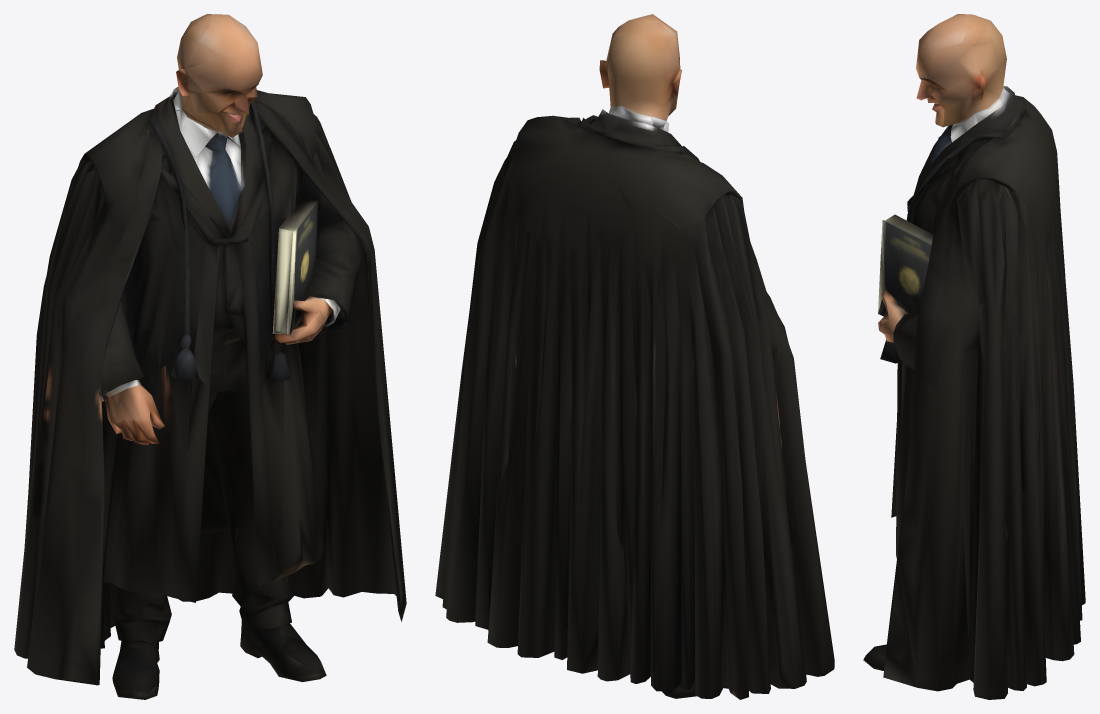
File: demo_titan_01.glb
3 renders of one model, left to right at view 1: azimuth 30°, elevation 25°; view 2: azimuth 150°, elevation 25°; view 3: azimuth 270°, elevation 25°, orthographic. The views are drawn at different scales.
Visible parts, largest first — view 1: node_0; view 2: node_0; view 3: node_0.
Boxes of the visible parts, x1,y1,x2,y2 form: node_0: (14,14,406,699); node_0: (435,14,834,699); node_0: (863,14,1085,699).
Size of the model in its own units: 0.6828 by 1.11 by 0.3562.
1 material, 1 textured.
